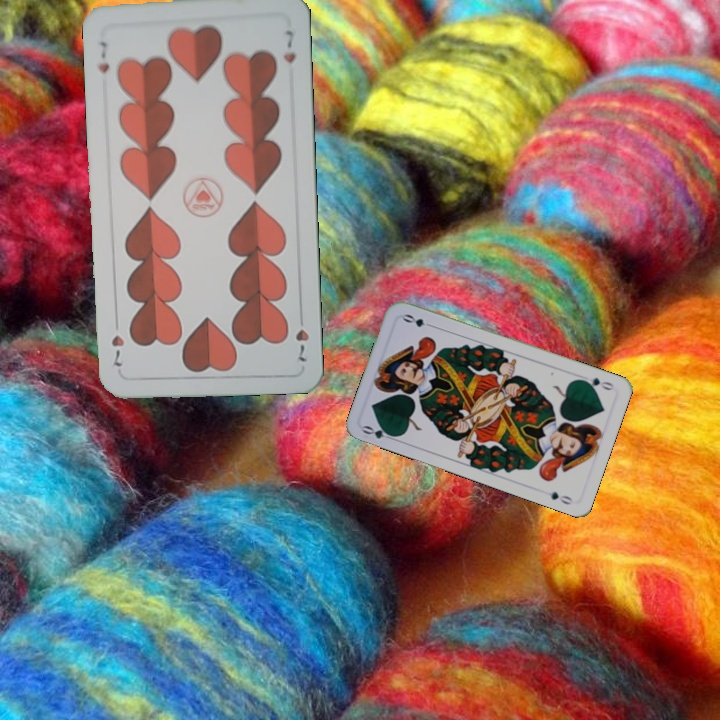GO: (358, 421, 399, 443), (576, 373, 616, 393)
H7: (292, 308, 312, 364), (94, 37, 112, 75)
